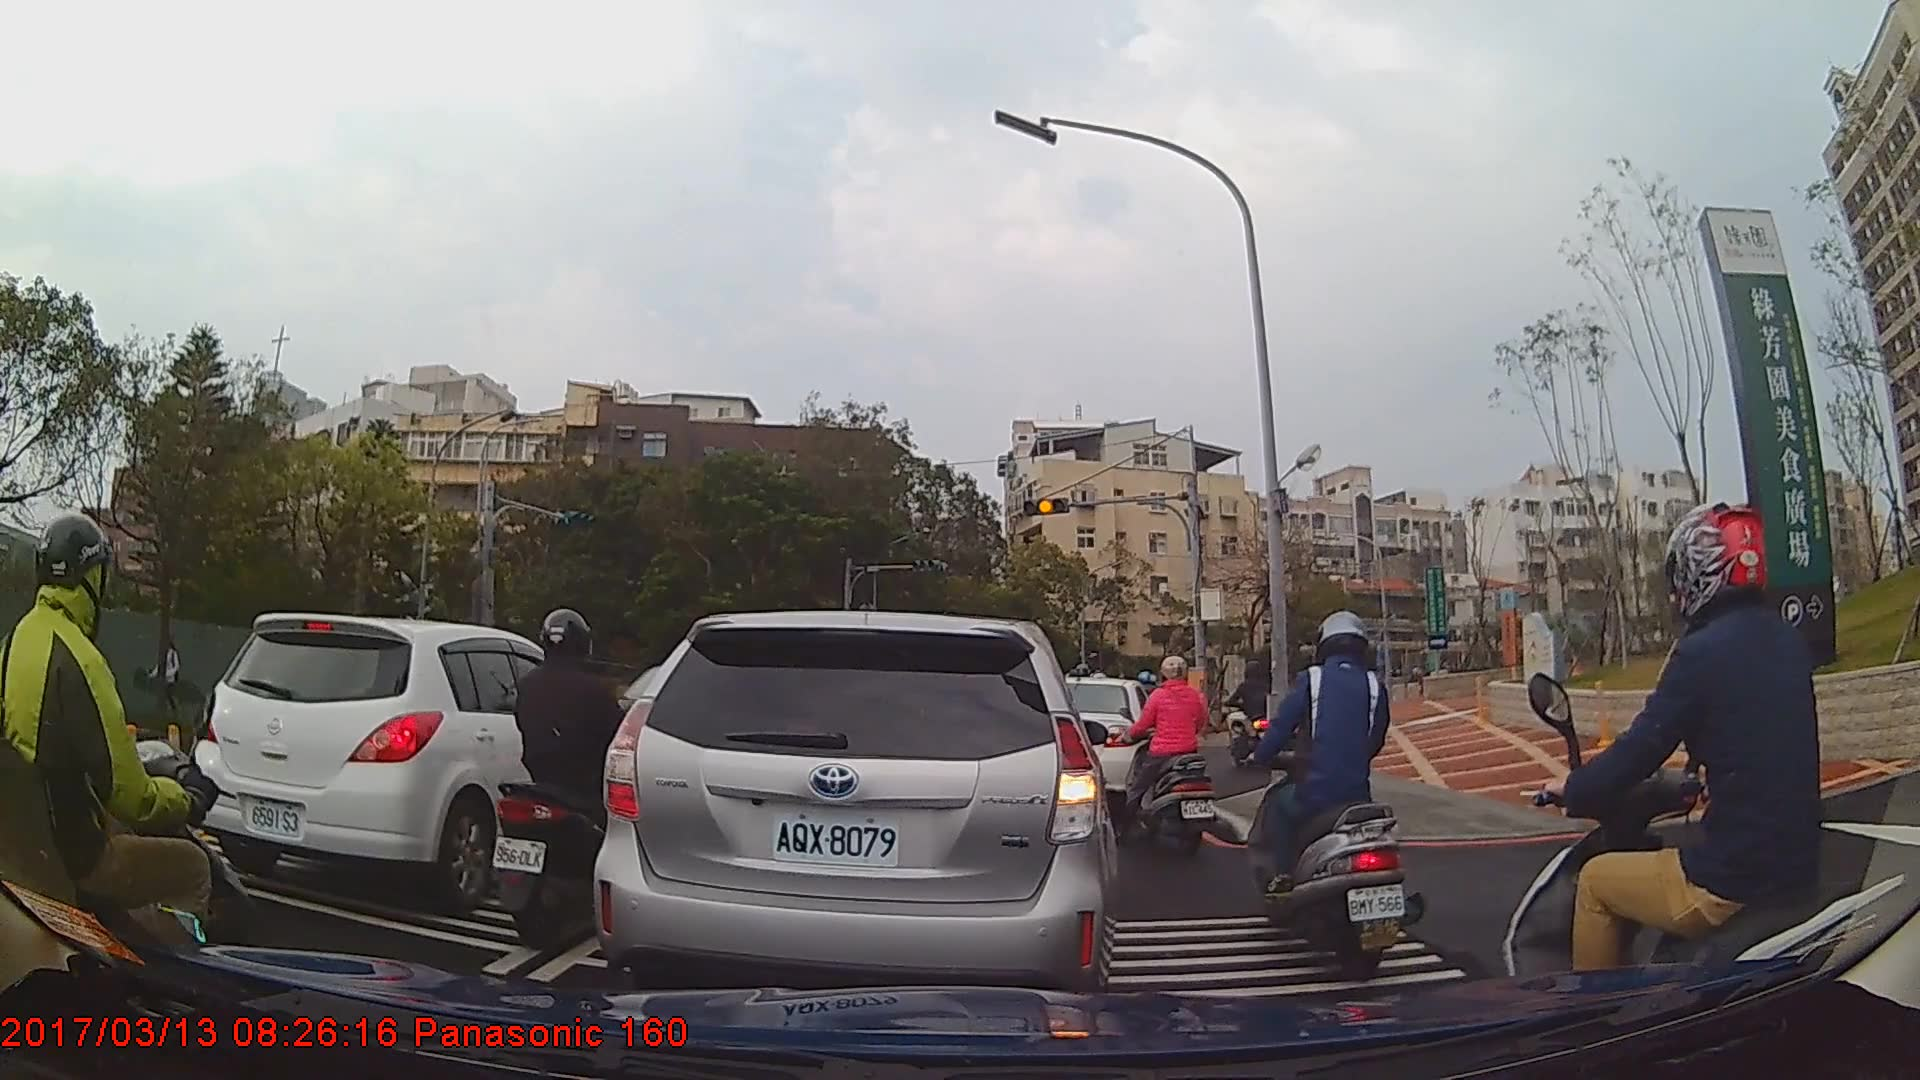pedestrian: (156, 634, 188, 720)
rider: (1501, 499, 1905, 1060), (1, 513, 265, 1069), (1242, 613, 1416, 971), (480, 607, 652, 952), (1113, 653, 1221, 863), (1225, 657, 1271, 763)
vehicle: (590, 607, 1118, 1009), (189, 611, 628, 913)
